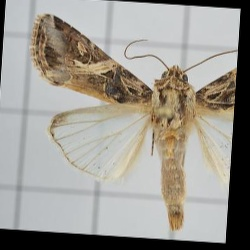Spodoptera litura: (24, 18, 232, 227)
